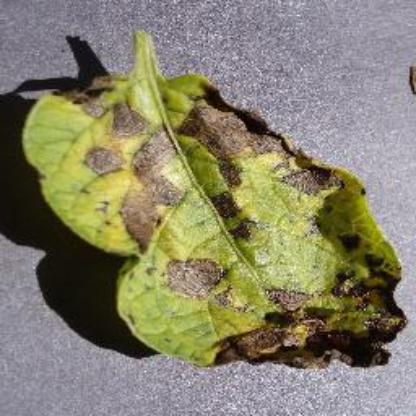Early-Blight: (21, 27, 410, 368)
